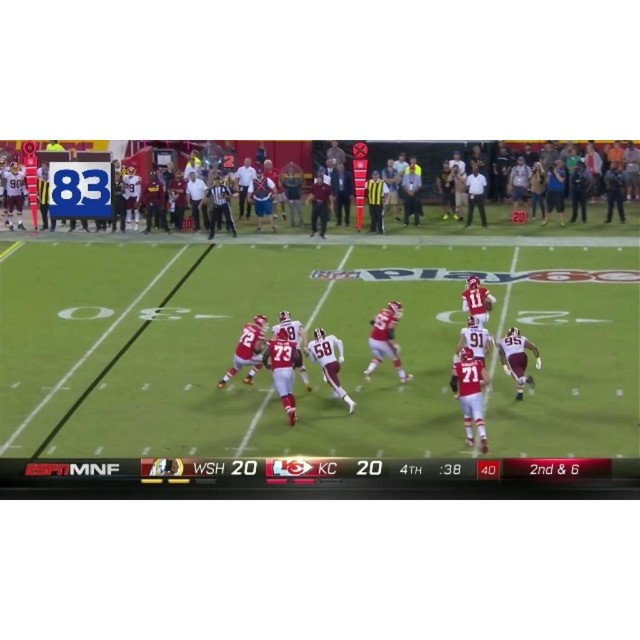american-football-player: (448, 345, 492, 452), (307, 327, 357, 416), (263, 324, 302, 427), (364, 301, 411, 386), (217, 318, 268, 390), (497, 327, 541, 401), (273, 309, 311, 393), (454, 314, 492, 369), (461, 276, 494, 329)
referee: (205, 177, 238, 242)
